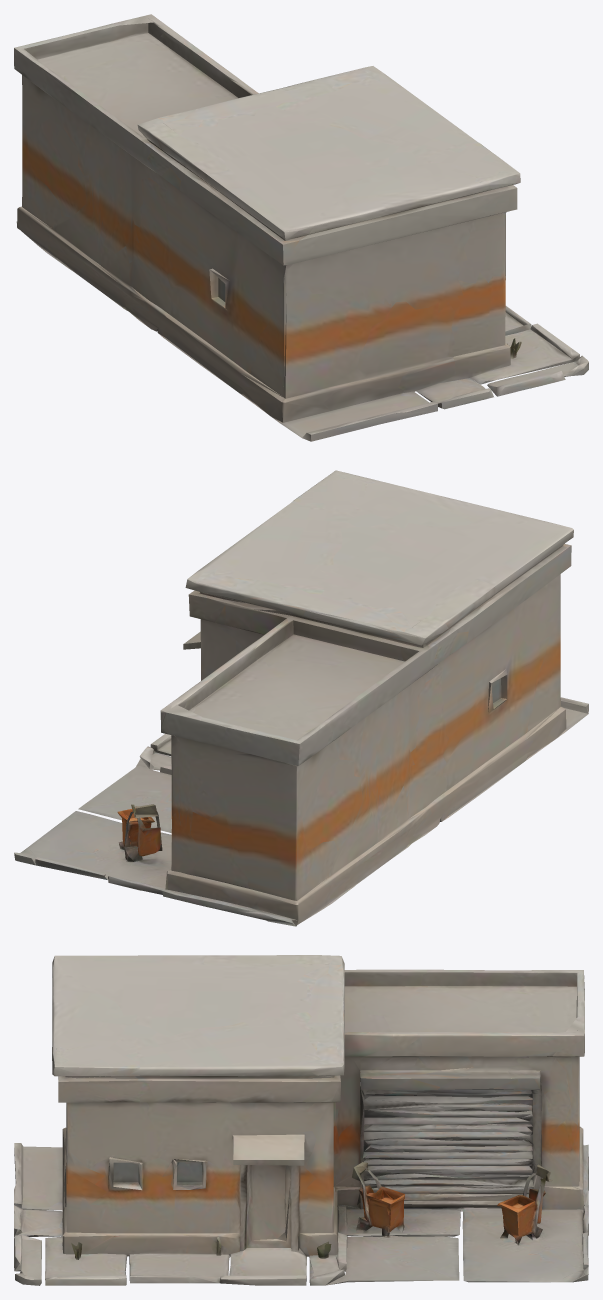
The model's file is obra_varredores.glb.
3 views of the same model, one above another, from view 1: azimuth 30°, elevation 25°; view 2: azimuth 150°, elevation 25°; view 3: azimuth 270°, elevation 25° (orthographic). The views are drawn at different scales.
Visible parts, largest first — view 1: tripo_node_86443155-dede-45fa-ad69-8ce67dcef494; view 2: tripo_node_86443155-dede-45fa-ad69-8ce67dcef494; view 3: tripo_node_86443155-dede-45fa-ad69-8ce67dcef494.
Part boxes in pixels (<box>): tripo_node_86443155-dede-45fa-ad69-8ce67dcef494: <box>14,14,588,441</box>; tripo_node_86443155-dede-45fa-ad69-8ce67dcef494: <box>14,470,588,926</box>; tripo_node_86443155-dede-45fa-ad69-8ce67dcef494: <box>14,955,588,1285</box>.
Bounding box in the file's own units: 0.5703 × 0.3697 × 0.9987.
1 material, 1 textured.
